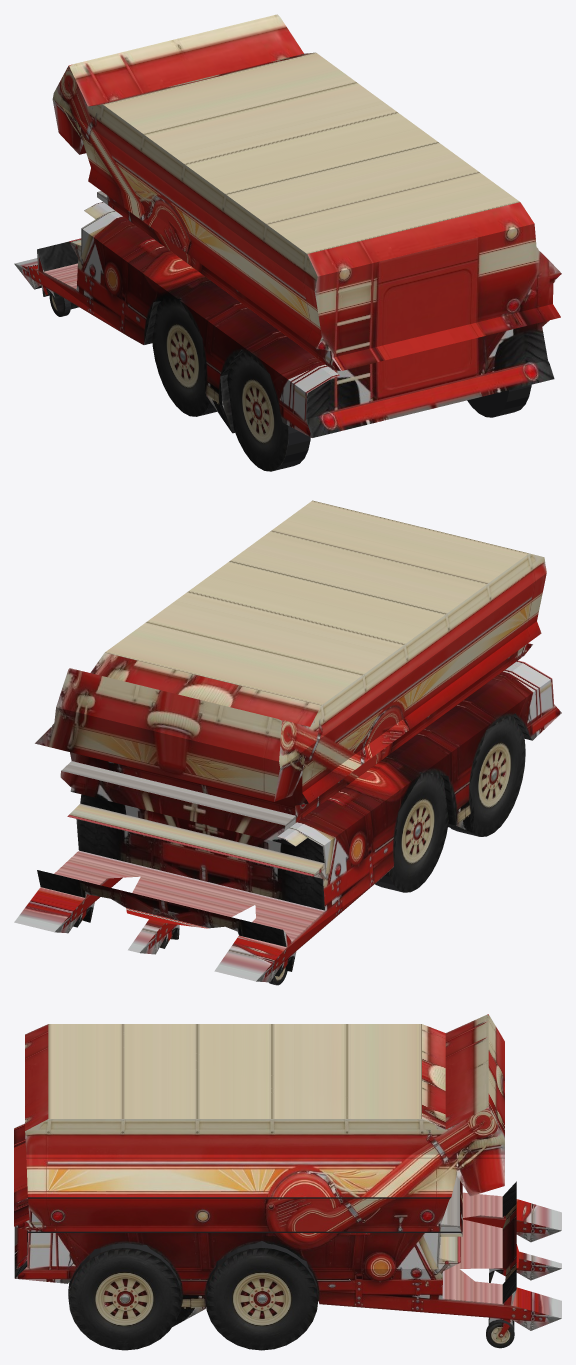
The model's file is grain_cart.glb.
3 renders of one model, top to bottom at view 1: azimuth 30°, elevation 25°; view 2: azimuth 150°, elevation 25°; view 3: azimuth 270°, elevation 25°, orthographic. The views are drawn at different scales.
Visible parts, largest first — view 1: grain_cart, wheel_BL, wheel_M1L, wheel_BR; view 2: grain_cart, wheel_M1L, wheel_BL; view 3: grain_cart, wheel_BR, wheel_M1R, wheel_FR.
Part boxes in pixels (bbox=[...]): grain_cart: bbox=[14, 14, 561, 437]; wheel_BL: bbox=[227, 351, 310, 471]; wheel_M1L: bbox=[152, 298, 216, 416]; wheel_BR: bbox=[467, 384, 531, 417]; grain_cart: bbox=[14, 500, 561, 982]; wheel_M1L: bbox=[375, 772, 448, 892]; wheel_BL: bbox=[450, 715, 525, 836]; grain_cart: bbox=[14, 1014, 561, 1330]; wheel_BR: bbox=[68, 1243, 181, 1350]; wheel_M1R: bbox=[205, 1241, 318, 1350]; wheel_FR: bbox=[486, 1320, 514, 1348].
Size of the model in its own units: 3.49 by 3.27 by 6.99.
Materials: 3 (1 with a texture image).
